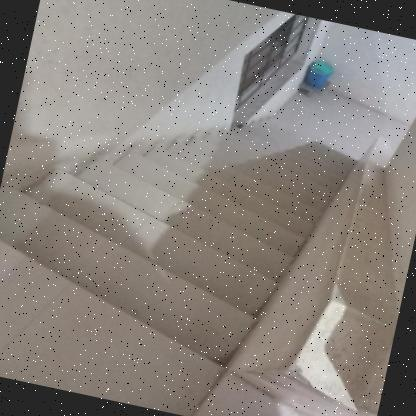stair: (0, 50, 383, 399)
